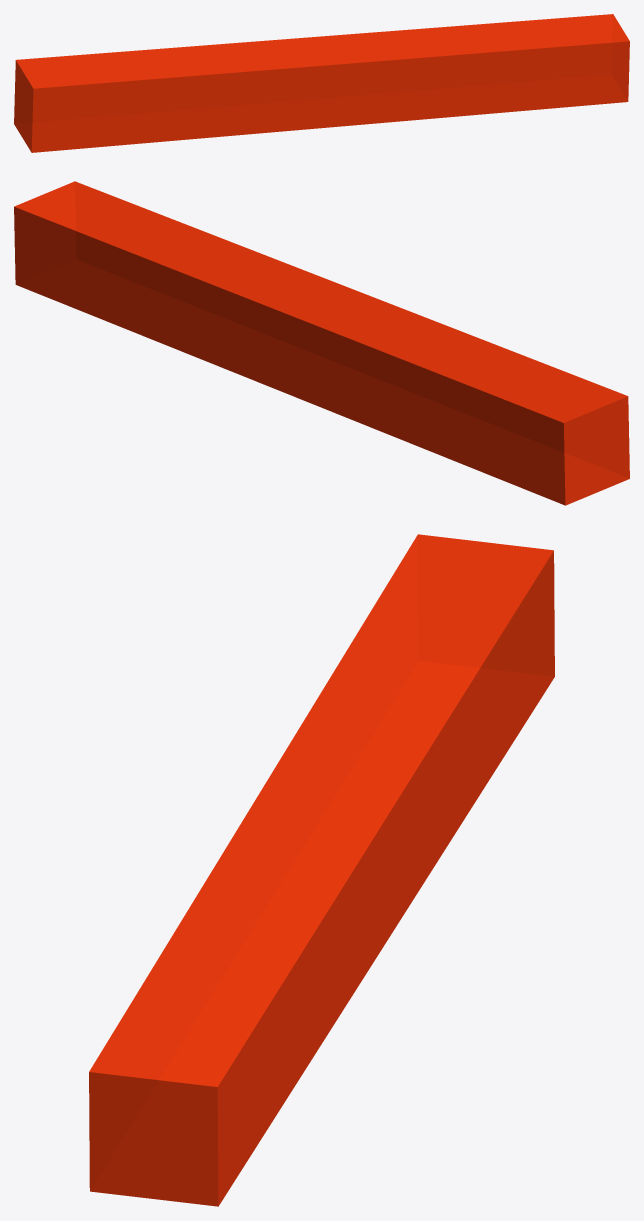
Rendered from Event_420094457_EErechit_13.fbx.
3 views of the same model, one above another, from view 1: azimuth 30°, elevation 25°; view 2: azimuth 150°, elevation 25°; view 3: azimuth 270°, elevation 25° (orthographic). The views are drawn at different scales.
Visible parts, largest first — view 1: Model; view 2: Model; view 3: Model.
Part boxes in pixels (bbox=[...]): Model: bbox=[14, 14, 629, 152]; Model: bbox=[14, 181, 629, 505]; Model: bbox=[89, 534, 554, 1206].
Bounding box in the file's own units: 0.6668 × 0.094 × 0.2532.
